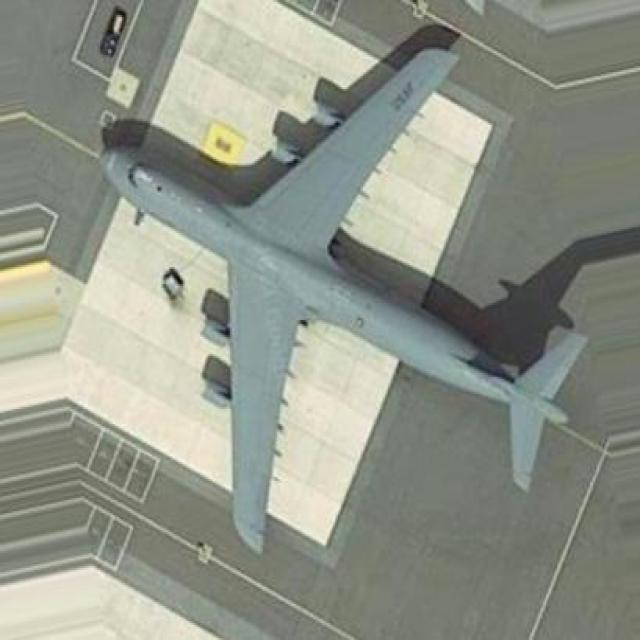C-5_TopDown: (94, 17, 638, 559)
